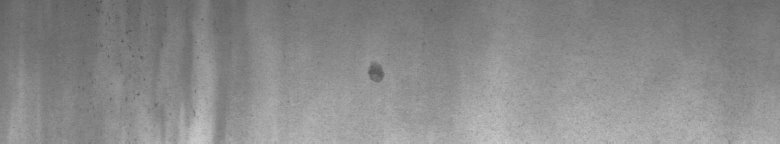fi: (364, 56, 389, 88)
